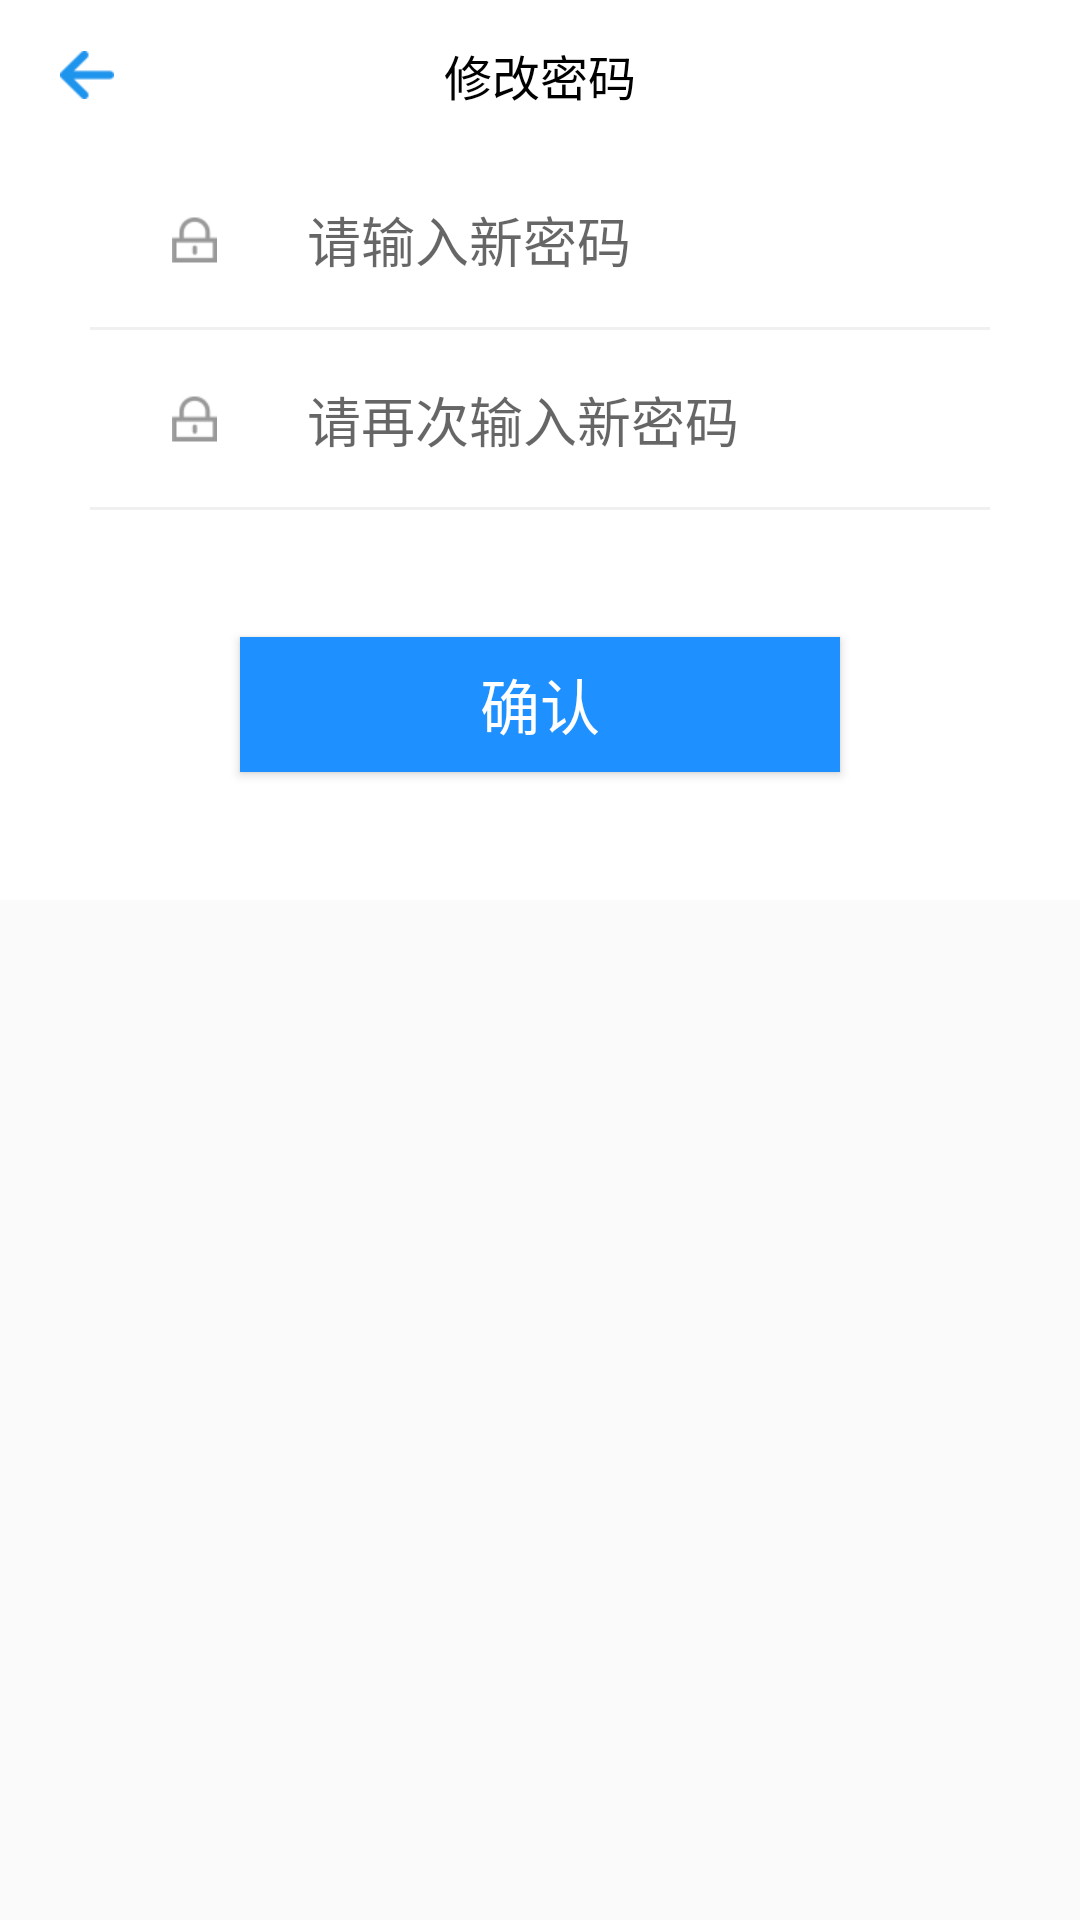

Screen size 1080×1920. Icon name, then its center in pixels as point (x, y):
back: point (87, 75)
